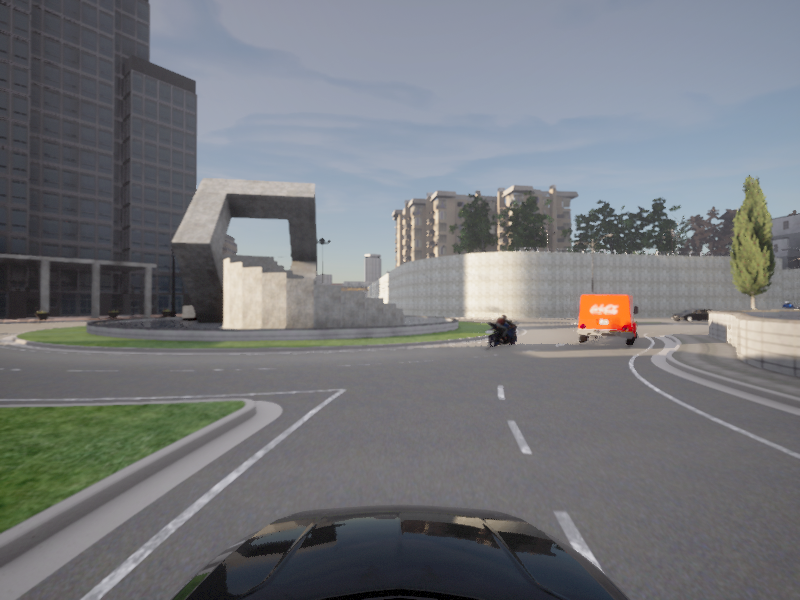vehicle: (573, 293, 639, 347), (480, 314, 524, 349)
